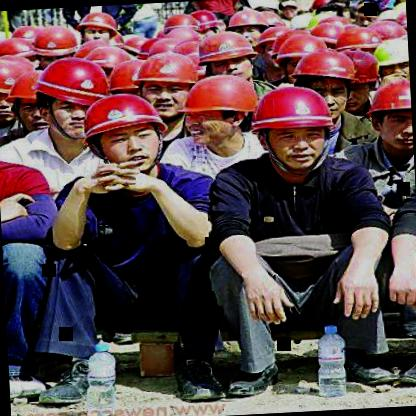helmet: (82, 89, 167, 176), (254, 84, 336, 170), (36, 58, 108, 146), (176, 73, 258, 147), (288, 48, 358, 124), (132, 52, 200, 116), (367, 74, 412, 160), (329, 50, 385, 112), (198, 31, 256, 84), (9, 67, 52, 136), (275, 32, 331, 80), (31, 25, 82, 71), (254, 23, 298, 72), (228, 6, 271, 49), (0, 55, 26, 125), (372, 34, 408, 82), (74, 10, 118, 43)
